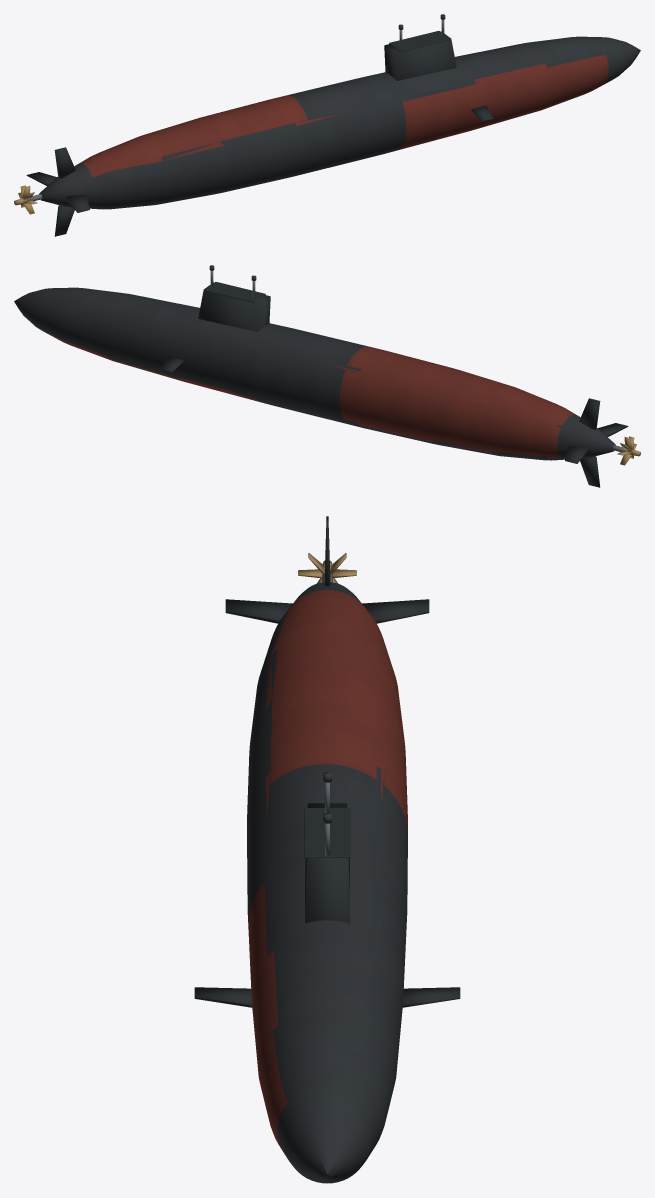
Rendered from UK_SSN_Valiant_LOD2.fbx.
3 views of the same model, one above another, from view 1: azimuth 30°, elevation 25°; view 2: azimuth 150°, elevation 25°; view 3: azimuth 270°, elevation 25° (orthographic). The views are drawn at different scales.
Visible parts, largest first — view 1: UK_SSN_Valiant_LOD2; view 2: UK_SSN_Valiant_LOD2; view 3: UK_SSN_Valiant_LOD2.
Part boxes in pixels (x1,y1,x2,y2): UK_SSN_Valiant_LOD2: [14, 14, 640, 236]; UK_SSN_Valiant_LOD2: [14, 265, 640, 487]; UK_SSN_Valiant_LOD2: [194, 516, 460, 1183].
Bounding box in the file's own units: 90.75 × 16.7 × 17.55.
Materials: 6 (1 with a texture image).
